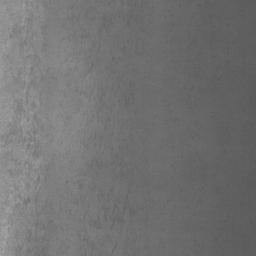Silk spot: (0, 0, 57, 256), (65, 79, 144, 256), (62, 28, 100, 76), (121, 0, 142, 26), (67, 5, 94, 21), (99, 15, 120, 32)
